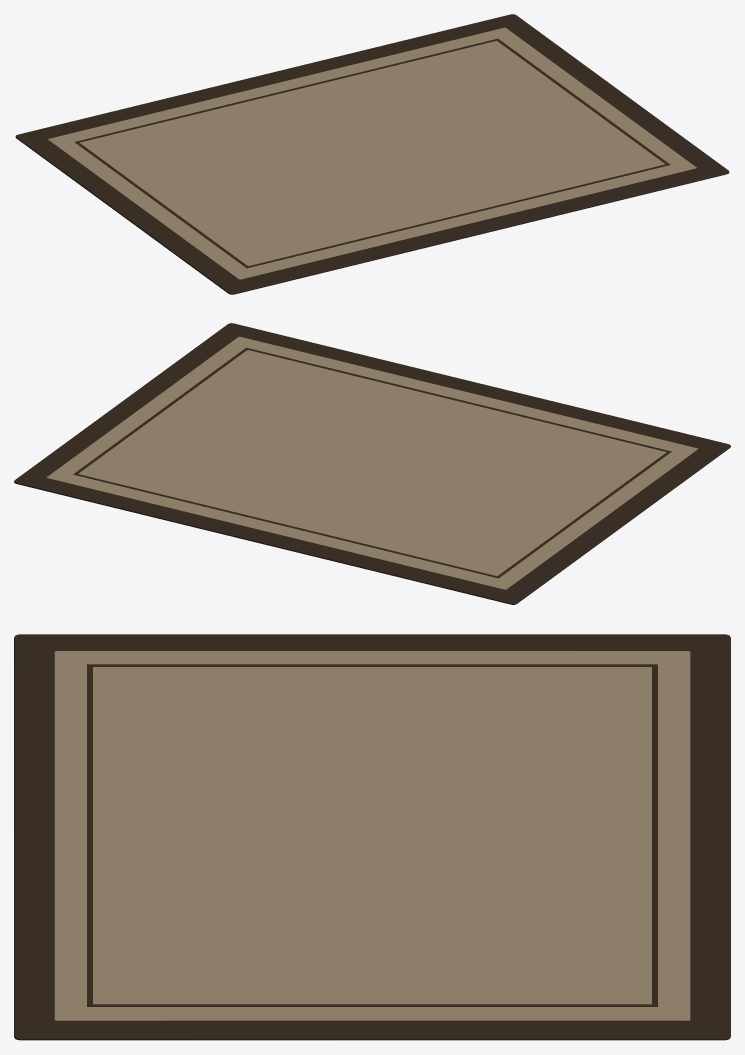
File: outdoor-rug-lod1.glb
3 views of the same model, one above another, from view 1: azimuth 30°, elevation 25°; view 2: azimuth 150°, elevation 25°; view 3: azimuth 270°, elevation 25° (orthographic). The views are drawn at different scales.
Parts seen in each view (by area): view 1: Flat-weave rug field, Flat-weave rug border; view 2: Flat-weave rug field, Flat-weave rug border; view 3: Flat-weave rug field, Flat-weave rug border.
Boxes of the visible parts, left/top/right/bottom form: Flat-weave rug field: left=48, top=27, right=696, bottom=279; Flat-weave rug border: left=15, top=14, right=729, bottom=294; Flat-weave rug field: left=47, top=336, right=697, bottom=589; Flat-weave rug border: left=14, top=323, right=730, bottom=604; Flat-weave rug field: left=54, top=651, right=690, bottom=1020; Flat-weave rug border: left=14, top=634, right=730, bottom=1040.
Size of the model in its own units: 3.66 by 0.0135 by 2.74.
